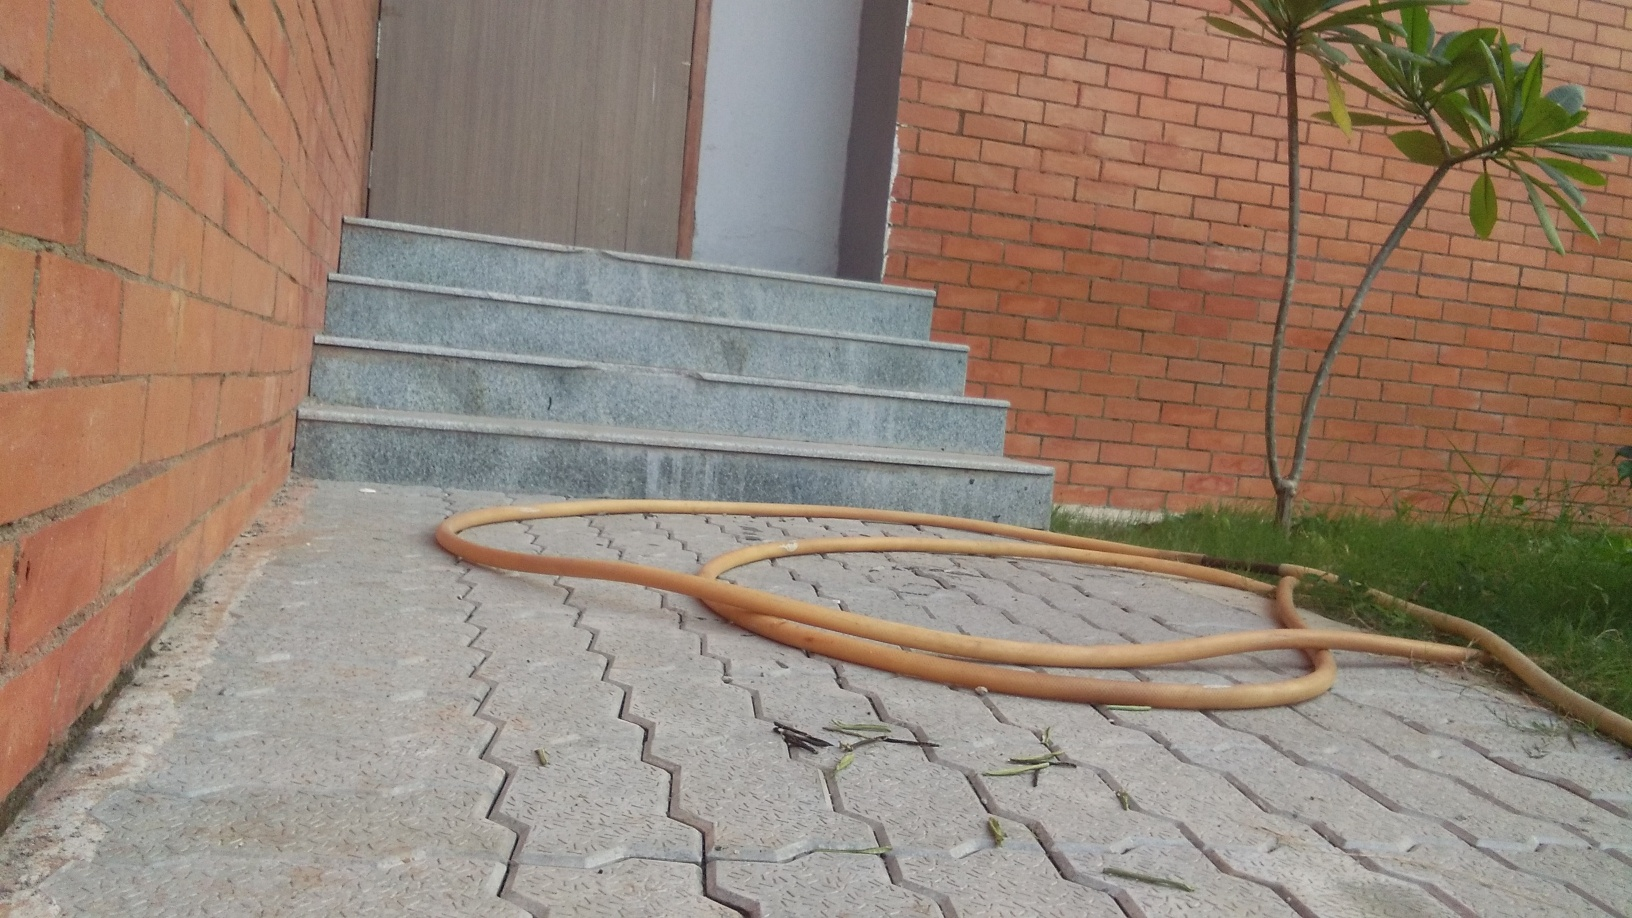stairs_up: (303, 212, 1066, 535)
